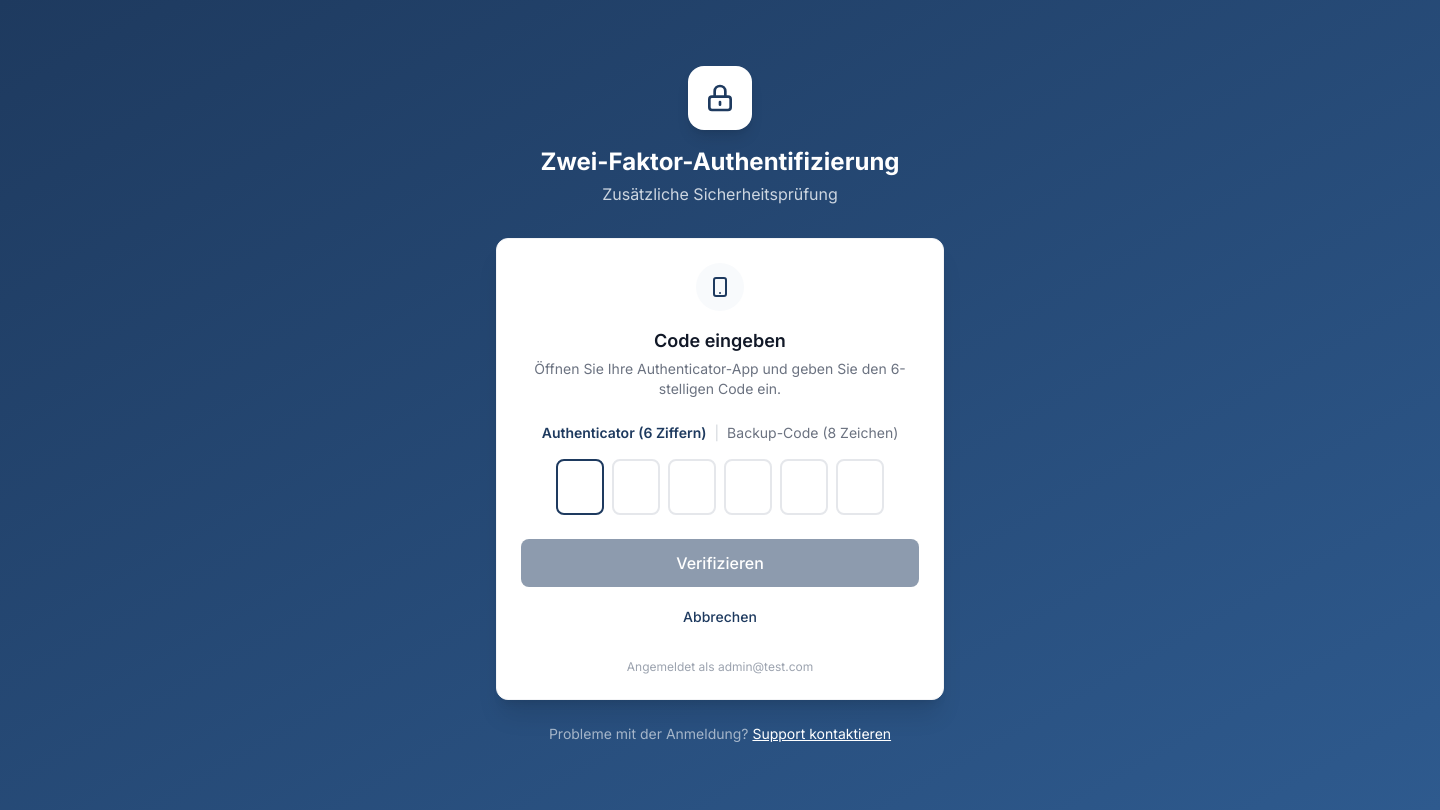
Test: TwoFactorVerify › shows error for incomplete code
Type "123" into the 1st field at (580, 487), box [556, 459, 604, 515]
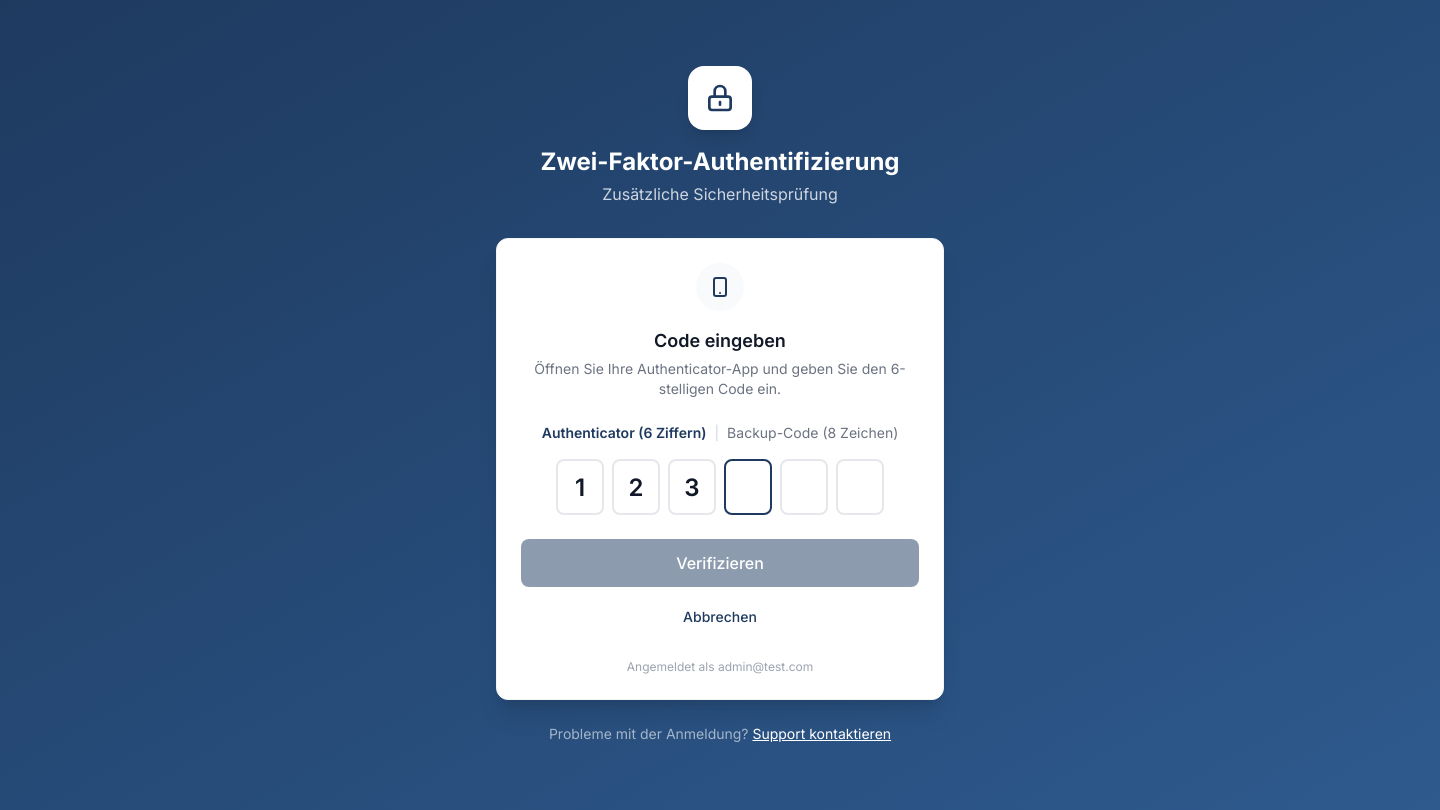
// Try to submit
Submit the form "Verifizieren Abbrechen", box [521, 459, 919, 635]
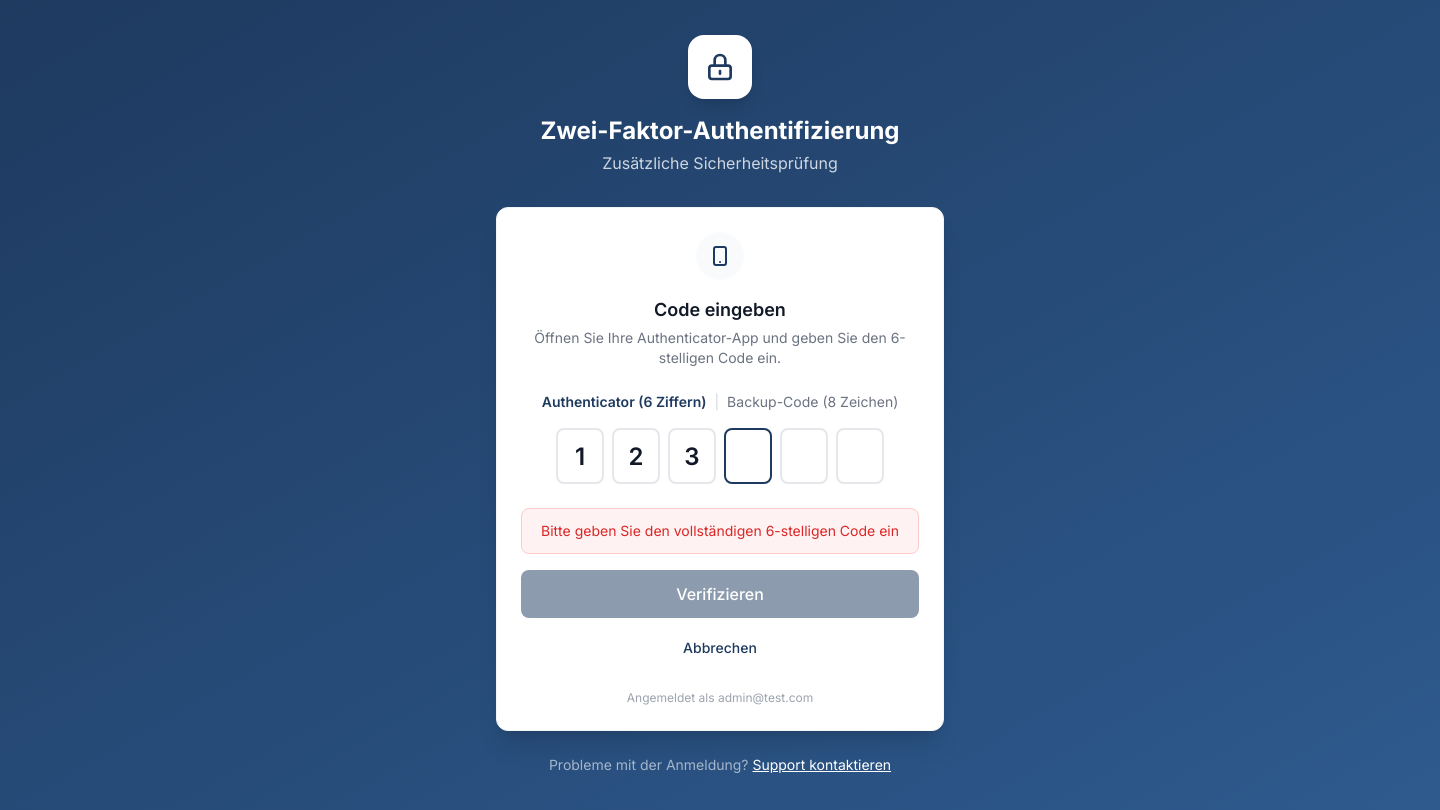
Check: the text "Bitte geben Sie den vollständigen 6-stelligen Code ein" is shown, box [534, 521, 906, 541]
